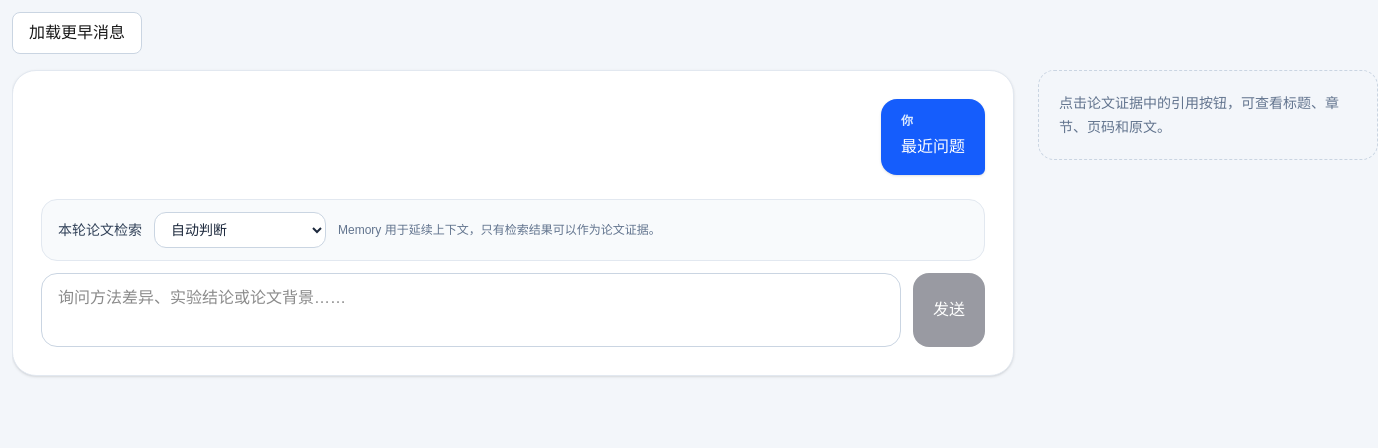
Test: loads older history by sequence without duplicating the current page
The image size is (1378, 448).
Click the button "加载更早消息".
click(77, 33)  # box [12, 12, 142, 54]
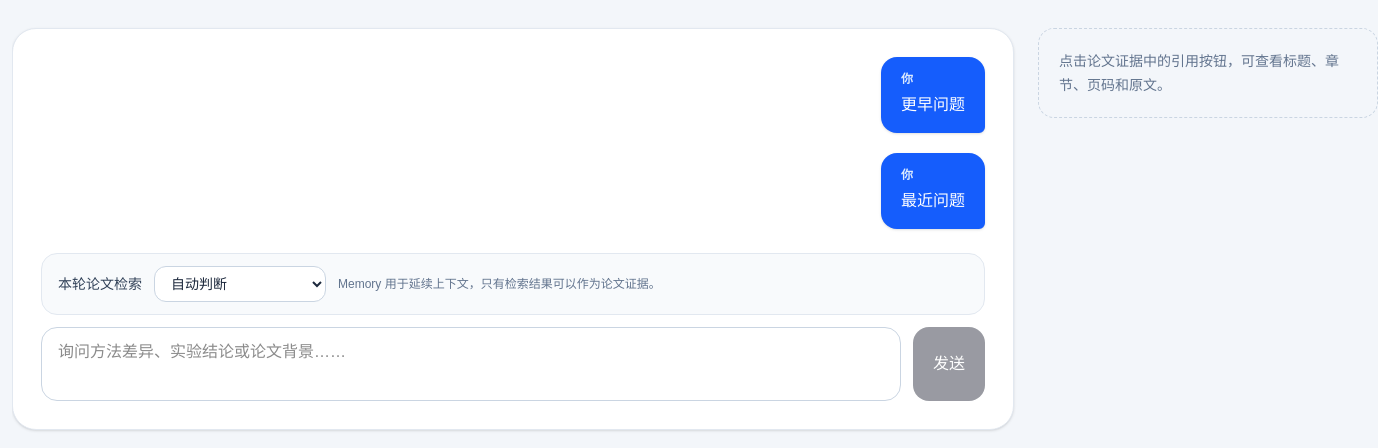
Expected: the text "更早问题" is shown, [901, 91, 965, 119]
Expected: the text "最近问题" is shown once, [901, 187, 965, 215]
Expected: the button "加载更早消息" is gone
